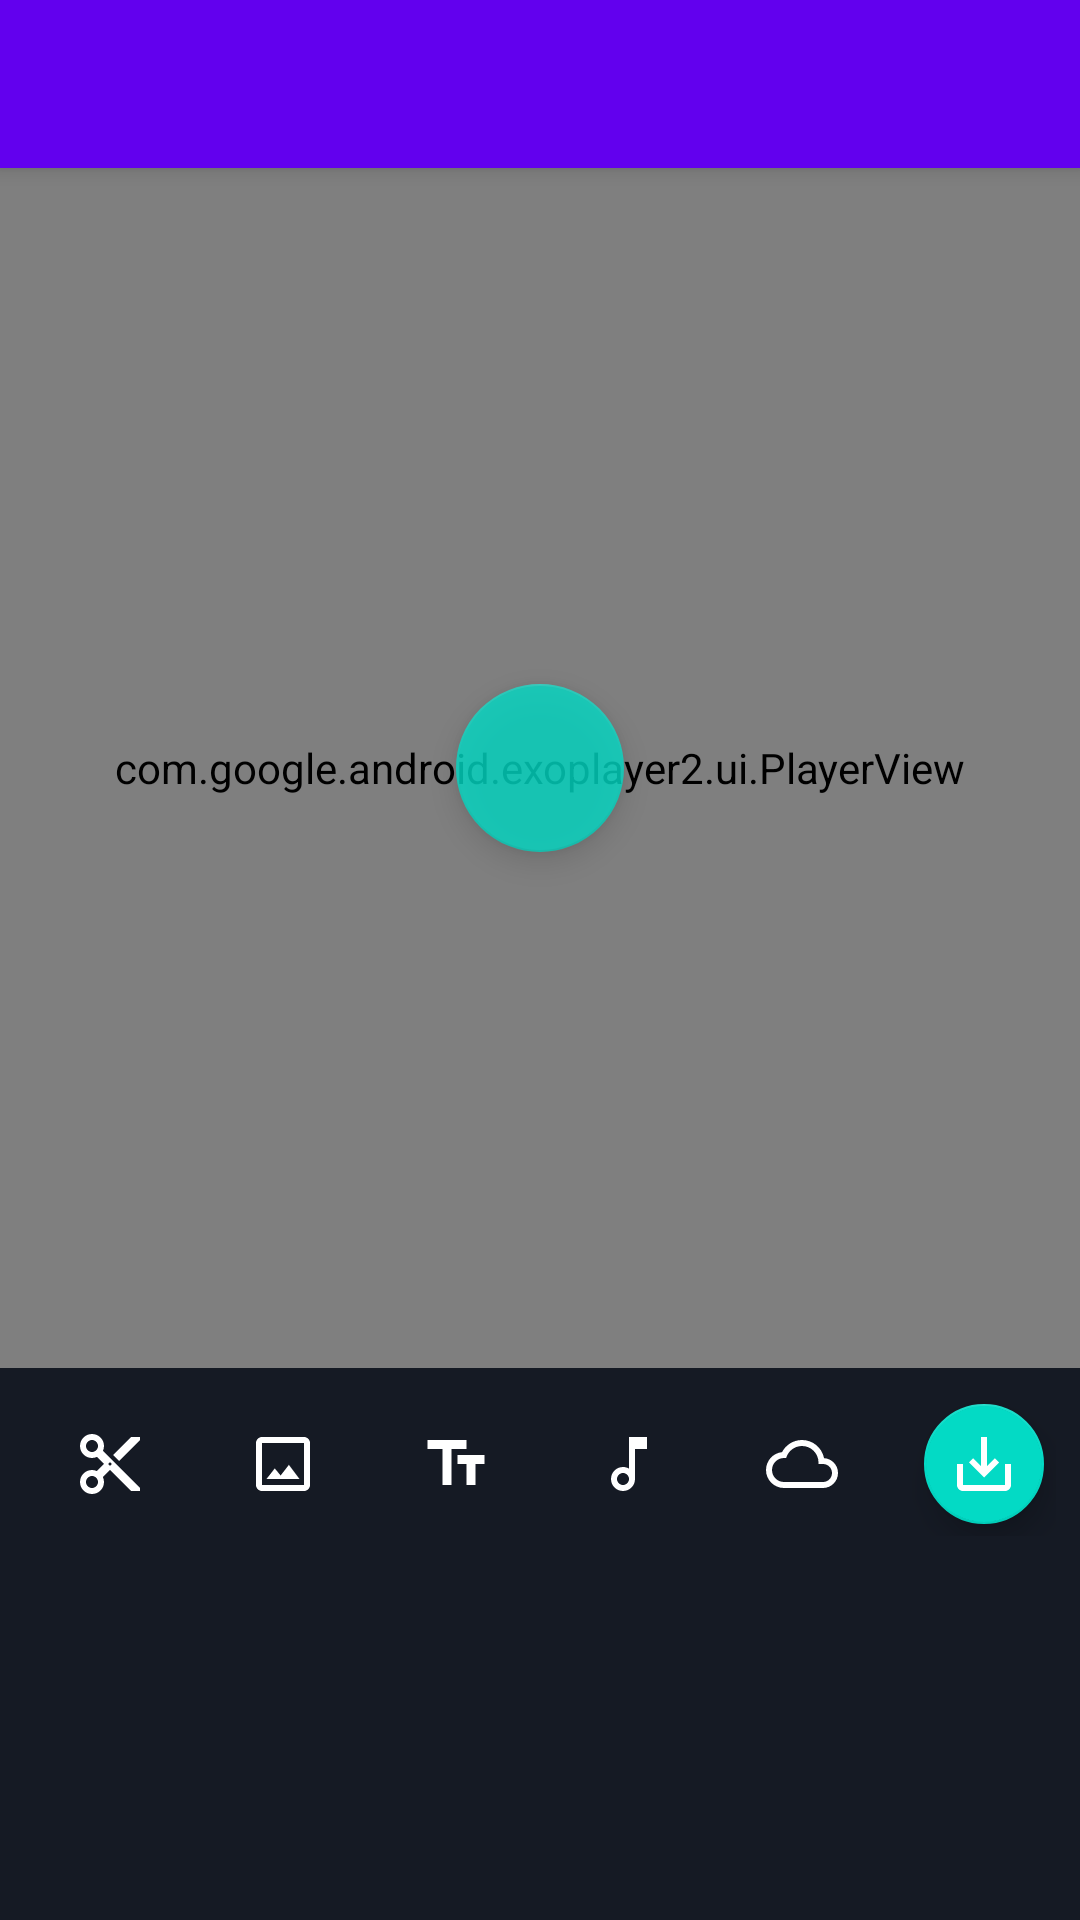

Point at icon controls on the screen. Image size 1080×1920, points as (x,y).
Audio: (629,1464)
Cut: (110,1464)
Export: (984,1464)
text: (456,1462)
